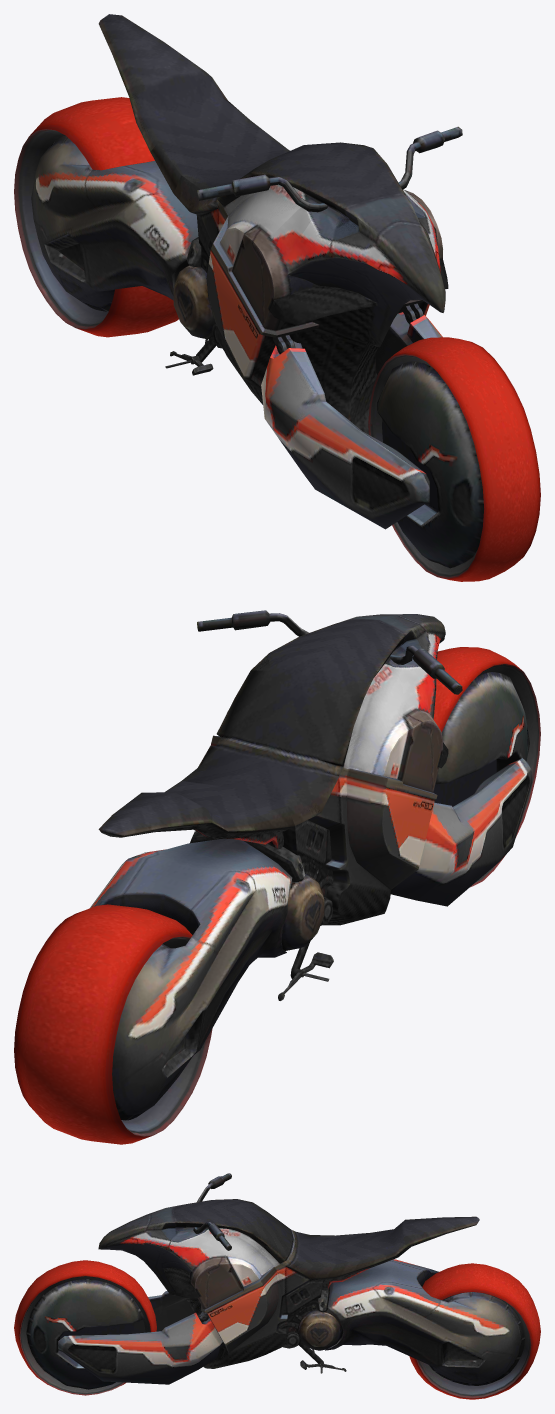
File: moto cobra.fbx
The picture shows the model from 3 angles, top to bottom: view 1: azimuth 30°, elevation 25°; view 2: azimuth 150°, elevation 25°; view 3: azimuth 270°, elevation 25°; orthographic projection. The views are drawn at different scales.
Parts seen in each view (by area): view 1: MOTO_Body_LOD0, MOTO_Body_LOD0.001, FrontWheel_LOD0, RearWheel_LOD0; view 2: MOTO_Body_LOD0, MOTO_Body_LOD0.001, RearWheel_LOD0, FrontWheel_LOD0; view 3: MOTO_Body_LOD0, MOTO_Body_LOD0.001, RearWheel_LOD0, FrontWheel_LOD0.
Boxes of the visible parts, box(x1,y1,x2,y2) form: MOTO_Body_LOD0: box(31, 14, 483, 568); MOTO_Body_LOD0.001: box(34, 14, 483, 567); FrontWheel_LOD0: box(368, 337, 540, 581); RearWheel_LOD0: box(14, 97, 178, 337); MOTO_Body_LOD0: box(89, 610, 532, 1120); MOTO_Body_LOD0.001: box(92, 611, 528, 1118); RearWheel_LOD0: box(14, 904, 212, 1144); FrontWheel_LOD0: box(433, 647, 540, 887); MOTO_Body_LOD0: box(26, 1173, 524, 1389); MOTO_Body_LOD0.001: box(27, 1173, 522, 1388); RearWheel_LOD0: box(409, 1263, 540, 1399); FrontWheel_LOD0: box(14, 1260, 156, 1395).
Size of the model in its own units: 65.79 by 80.1 by 199.
